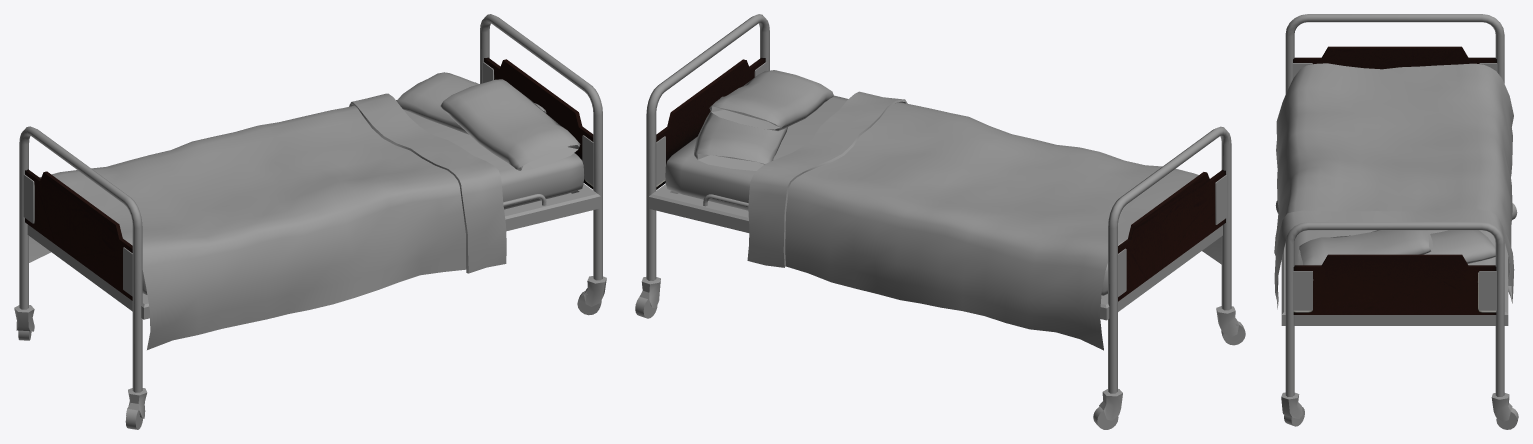
File: Bed_Hospital New.fbx
The picture shows the model from 3 angles, left to right: view 1: azimuth 30°, elevation 25°; view 2: azimuth 150°, elevation 25°; view 3: azimuth 270°, elevation 25°; orthographic projection. The views are drawn at different scales.
Parts seen in each view (by area): view 1: Sheet, Bed, Pillow; view 2: Sheet, Bed, Pillow; view 3: Sheet, Bed, Pillow.
Boxes of the visible parts, bbox=[...] form: Sheet: bbox=[29, 93, 506, 349]; Bed: bbox=[14, 14, 606, 429]; Pillow: bbox=[397, 72, 580, 170]; Sheet: bbox=[747, 91, 1221, 350]; Bed: bbox=[635, 14, 1245, 429]; Pillow: bbox=[694, 70, 833, 170]; Sheet: bbox=[1274, 63, 1514, 309]; Bed: bbox=[1275, 14, 1518, 429]; Pillow: bbox=[1298, 230, 1495, 265].
Size of the model in its own units: 94.81 by 41.47 by 44.73.
Materials: 4 (1 with a texture image).
